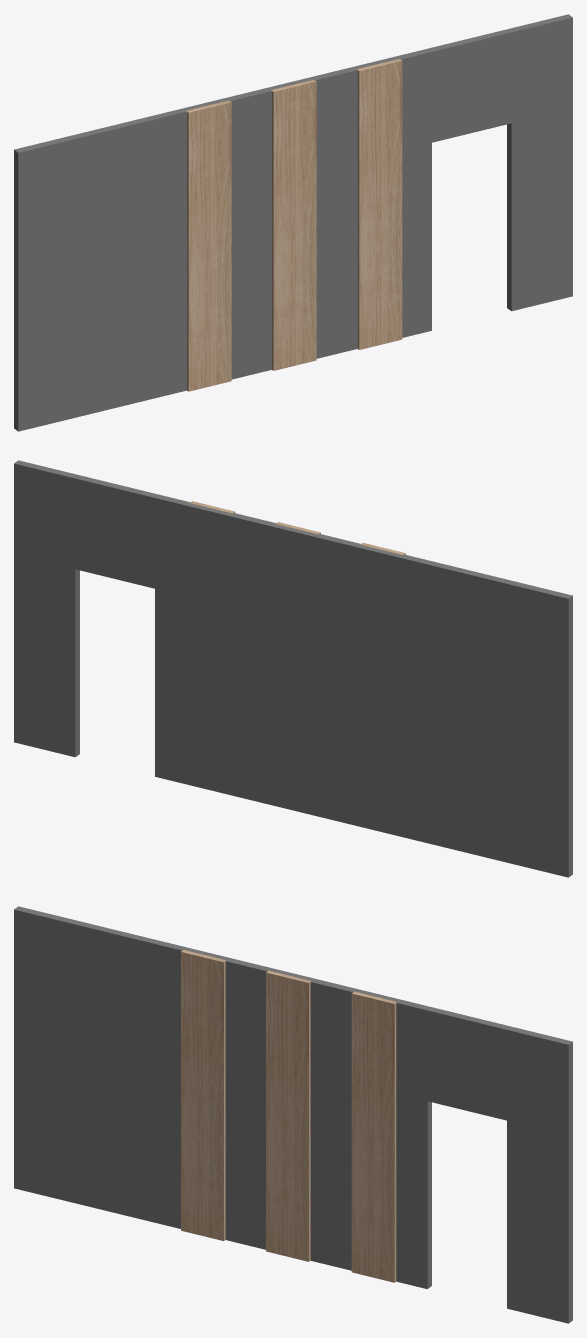
The model's file is Wall 2.fbx.
3 renders of one model, top to bottom at view 1: azimuth 30°, elevation 25°; view 2: azimuth 150°, elevation 25°; view 3: azimuth 330°, elevation 25°, orthographic.
Visible parts, largest first — view 1: wall 2; view 2: wall 2; view 3: wall 2.
Boxes of the visible parts, <box> form: wall 2: <box>14,14,572,431</box>; wall 2: <box>14,460,572,877</box>; wall 2: <box>14,906,572,1323</box>.
Bounding box in the file's own units: 631 × 303 × 11.98.
2 materials, 1 textured.
